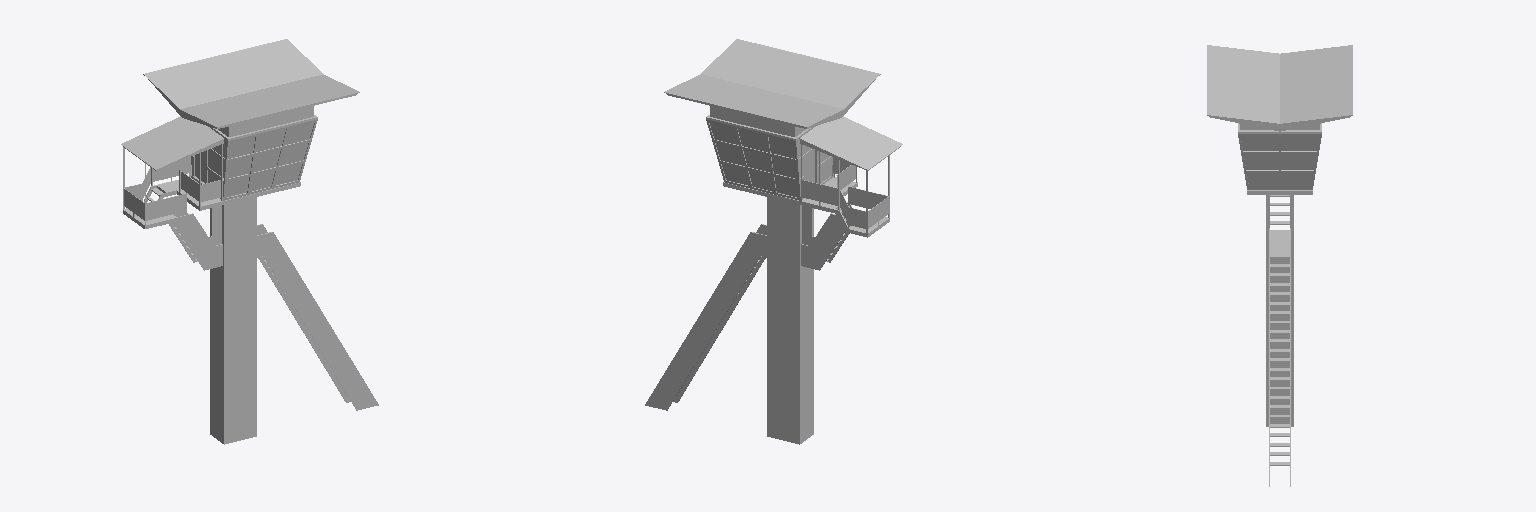
Rendered from mesh_house.obj.
The picture shows the model from 3 angles: view 1: azimuth 30°, elevation 25°; view 2: azimuth 150°, elevation 25°; view 3: azimuth 270°, elevation 25°; orthographic projection.
Parts seen in each view (by area): view 1: House022[-45008]; view 2: House022[-45008]; view 3: House022[-45008].
Boxes of the visible parts, x1=… form: House022[-45008]: x1=121, y1=39, x2=378, y2=444; House022[-45008]: x1=645, y1=39, x2=902, y2=444; House022[-45008]: x1=1207, y1=45, x2=1352, y2=486.
Size of the model in its own units: 6.49 by 9.17 by 3.49.